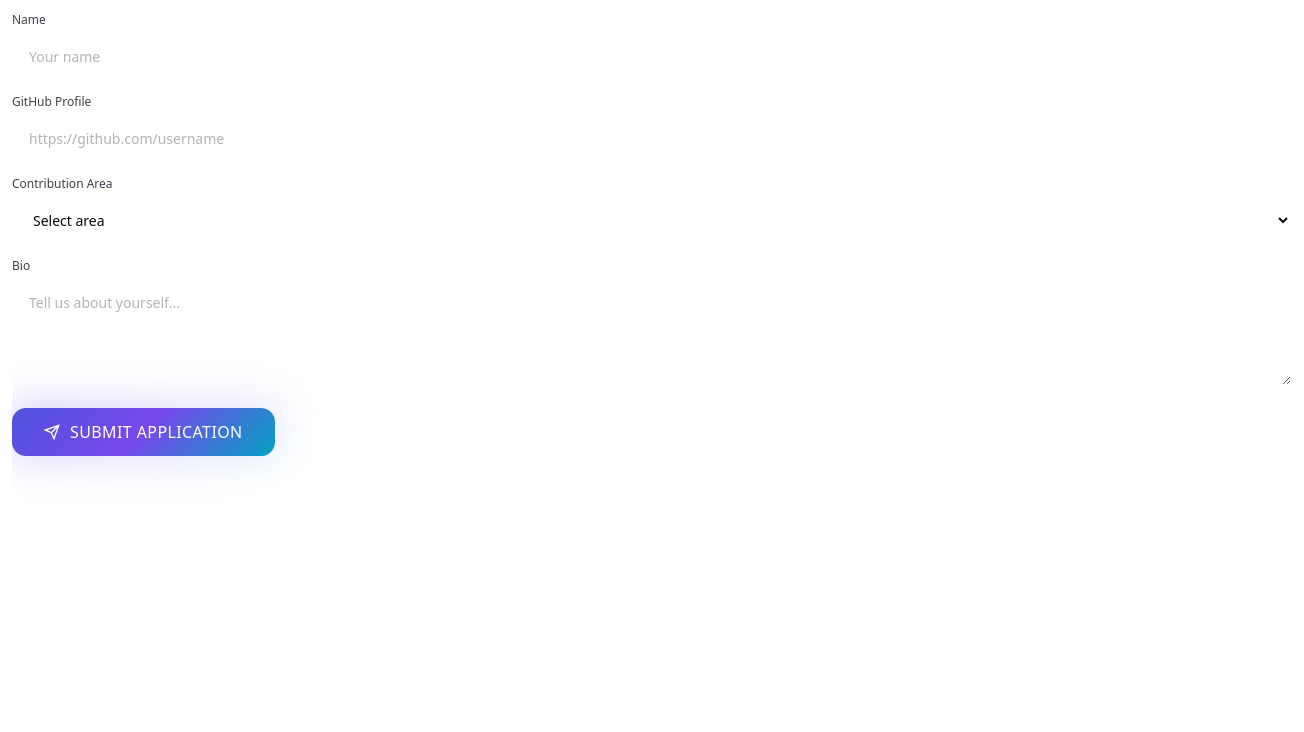
Test: ContributionForm validation error summary › announces a single summary listing every invalid field on submit
The width and height of the screenshot is (1304, 732).
Click the button "Submit Application" at (143, 432), box [12,408,275,456]
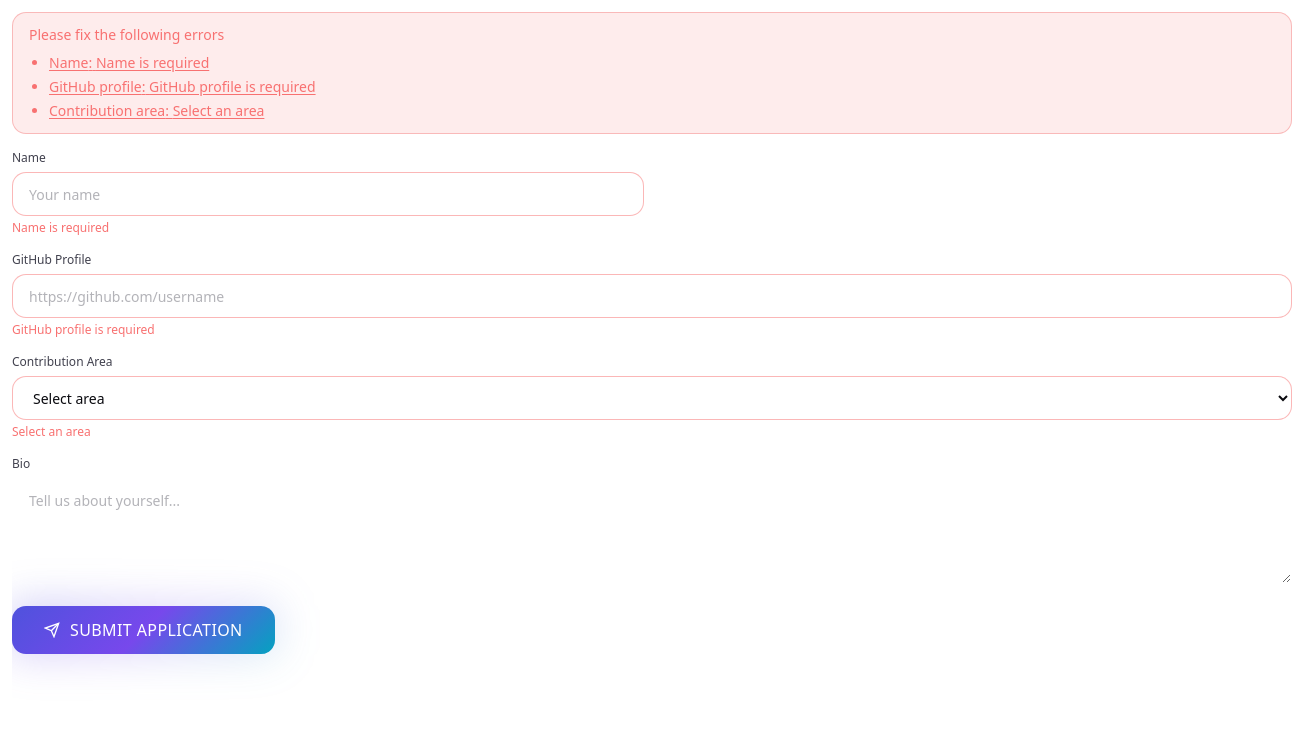
expect the message with test id "error-summary" shows "Please fix the following errors": met, box [29,25,224,44]
expect the message with test id "error-summary" shows "Name is required": met, box [49,53,209,72]
expect the message with test id "error-summary" shows "github profile is required": met, box [49,77,316,96]
